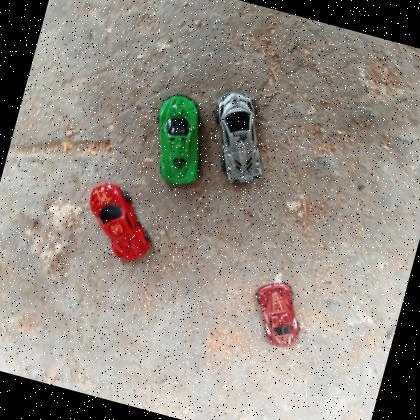Car: (196, 84, 284, 194), (139, 88, 220, 192), (74, 178, 164, 268), (243, 276, 314, 352)
